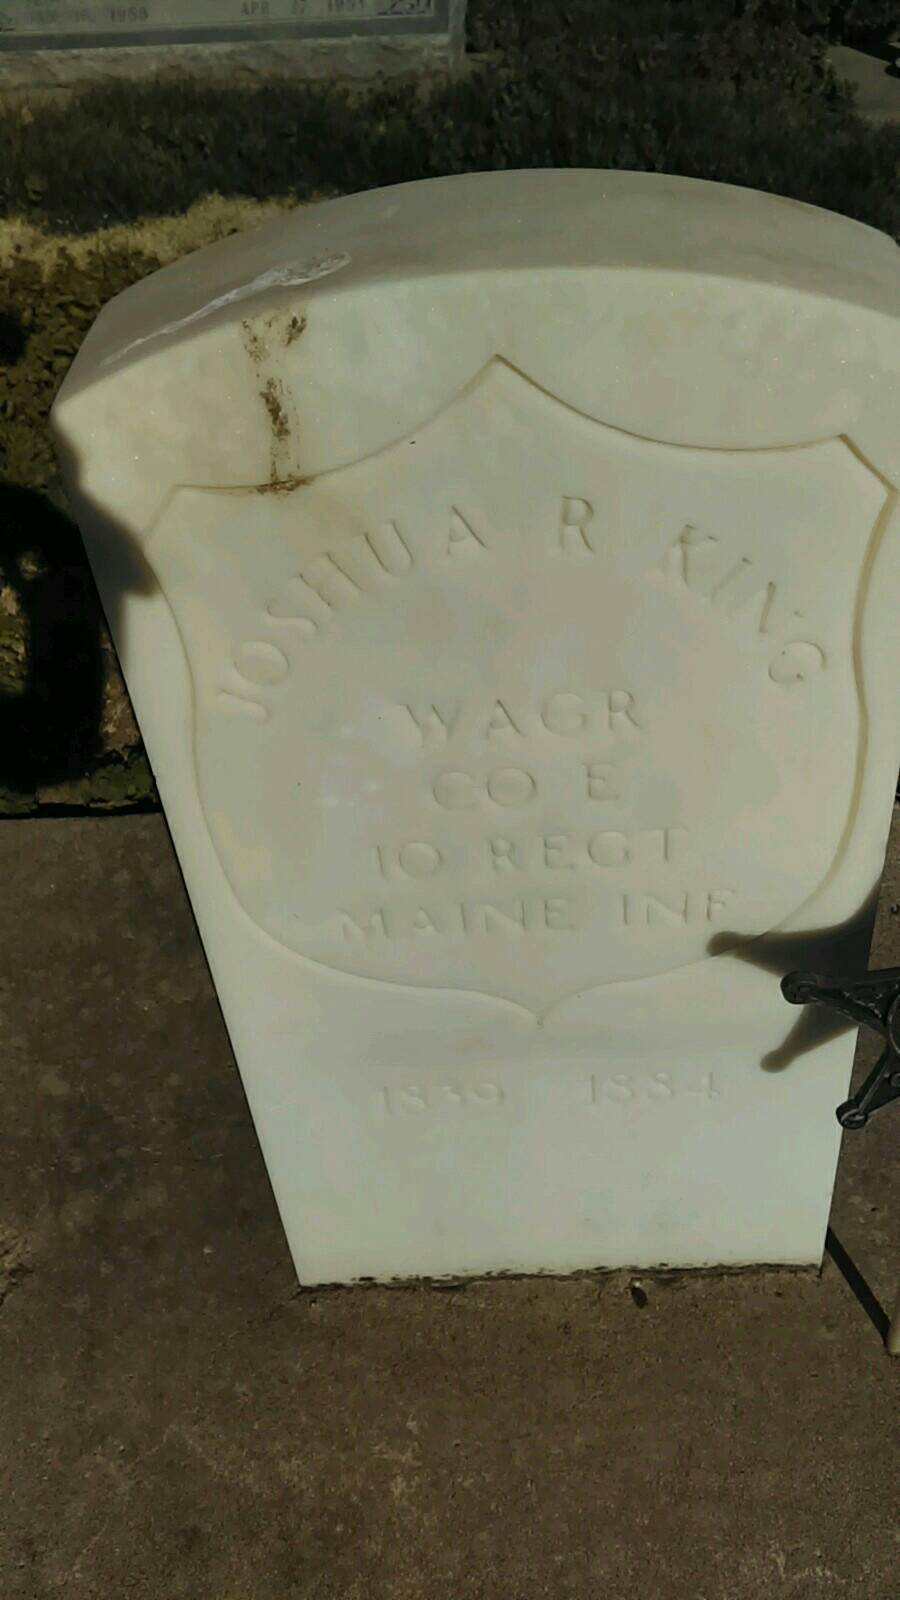military: (51, 163, 898, 1311)
